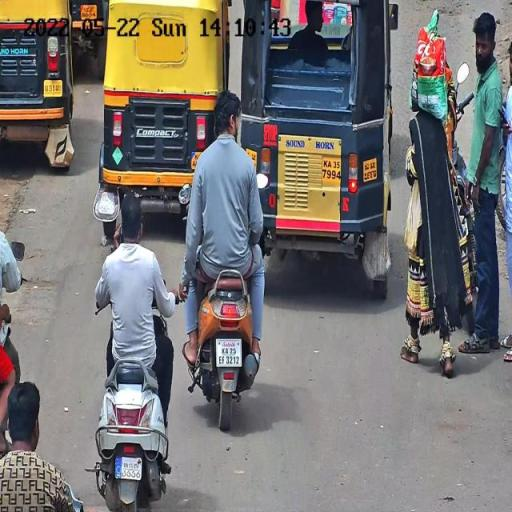using mobile: (112, 221, 124, 250)
